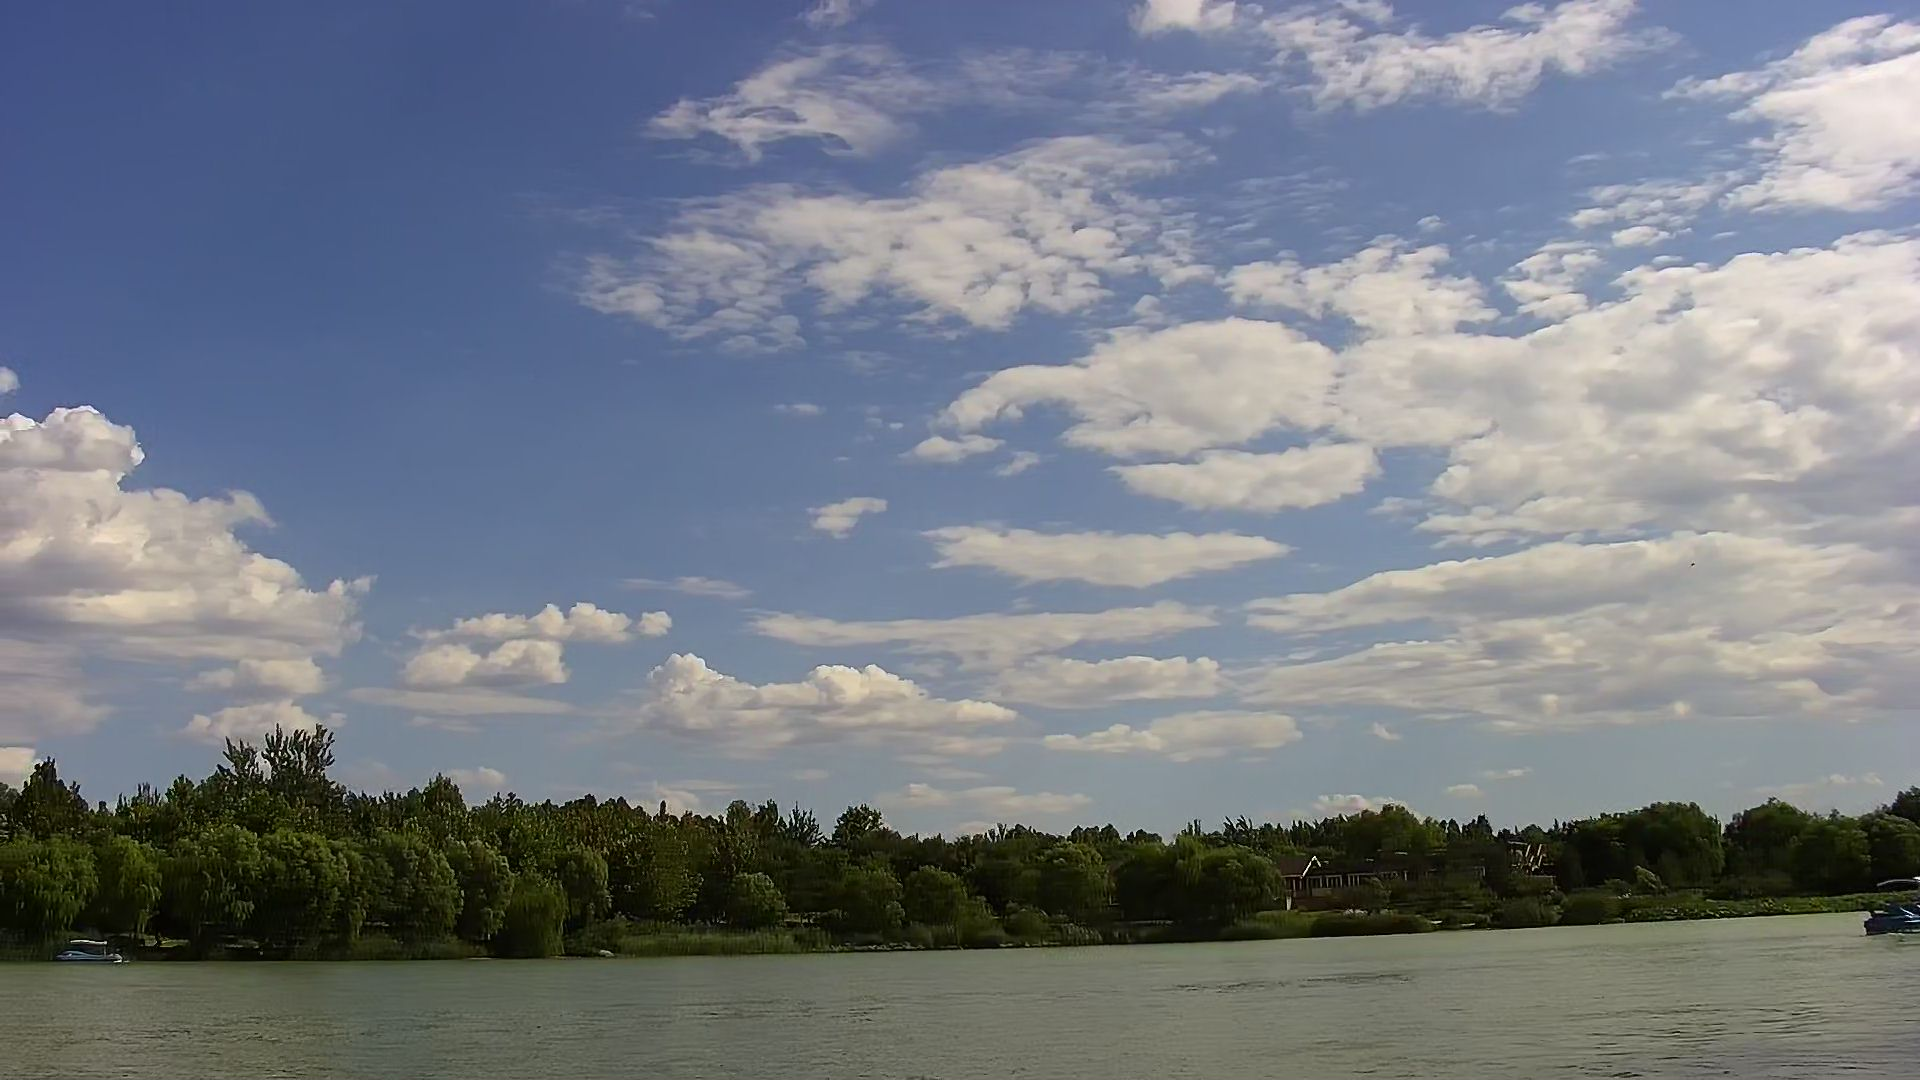boat: (1857, 874, 1920, 938), (50, 932, 125, 968)
